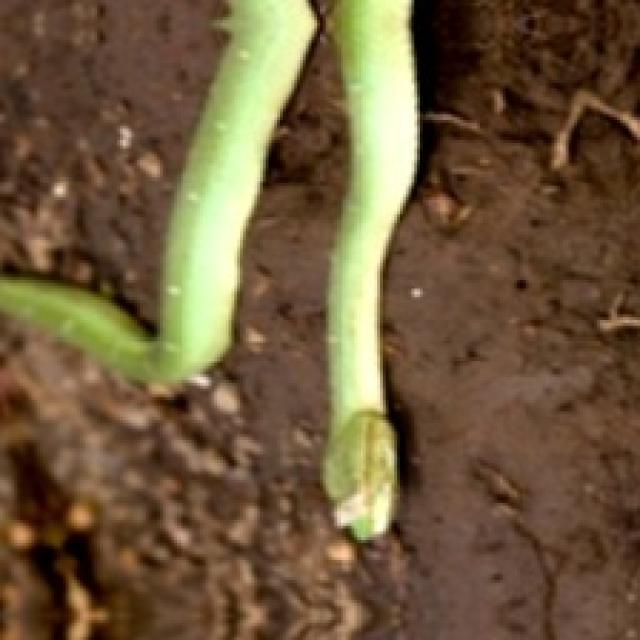north ph temple pitviper: (0, 0, 314, 380), (323, 0, 417, 537)
